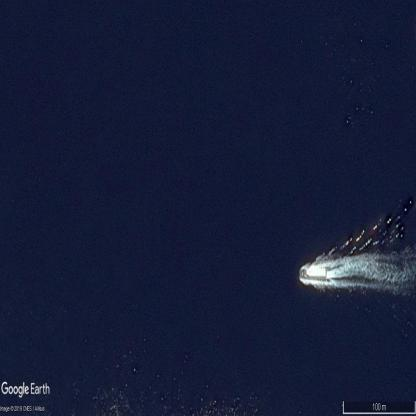ship: (300, 266, 326, 280)
